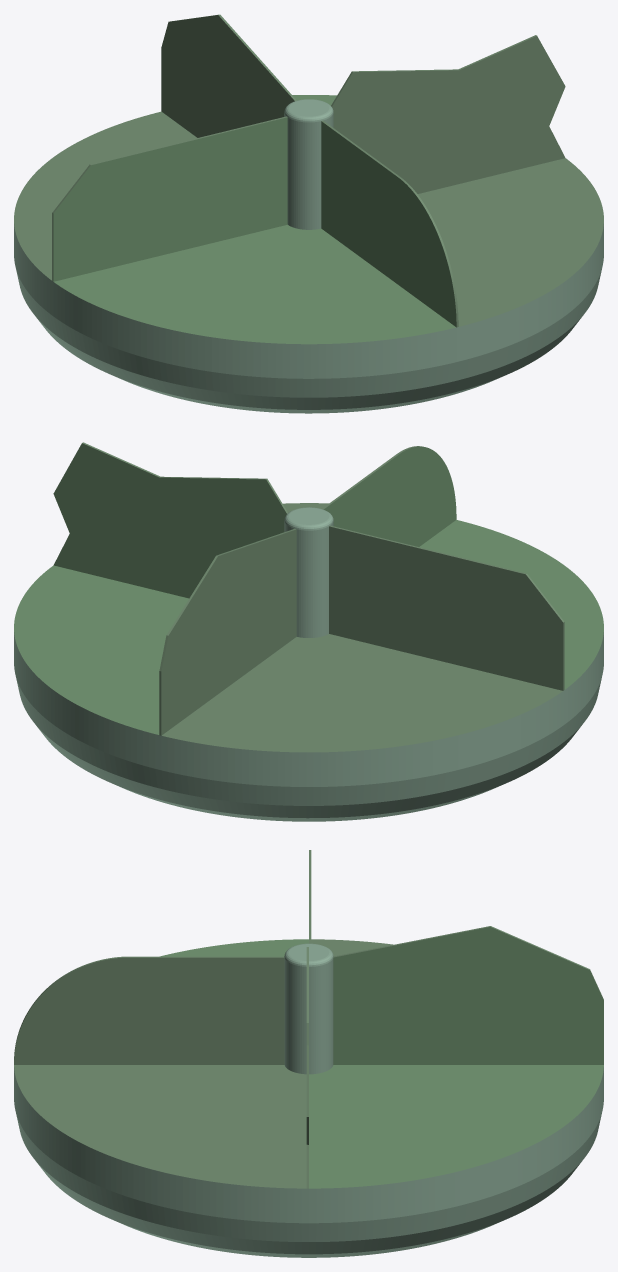
The picture shows the model from 3 angles, top to bottom: view 1: azimuth 30°, elevation 25°; view 2: azimuth 150°, elevation 25°; view 3: azimuth 270°, elevation 25°; orthographic projection.
Parts seen in each view (by area): view 1: Cylinder, Cylinder.001; view 2: Cylinder, Cylinder.001; view 3: Cylinder, Cylinder.001.
Boxes of the visible parts, bbox=[...] form: Cylinder: bbox=[14, 95, 603, 413]; Cylinder.001: bbox=[52, 14, 565, 327]; Cylinder: bbox=[14, 503, 603, 821]; Cylinder.001: bbox=[53, 442, 564, 735]; Cylinder: bbox=[14, 939, 603, 1257]; Cylinder.001: bbox=[14, 850, 603, 1188].
Size of the model in its own units: 24 by 10.2 by 24.
